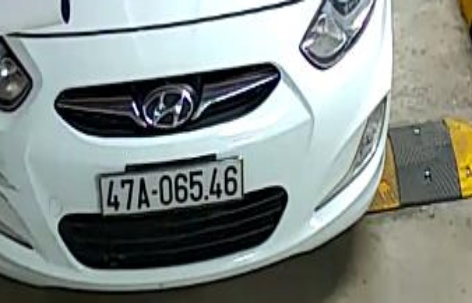plate: (92, 153, 258, 211)
